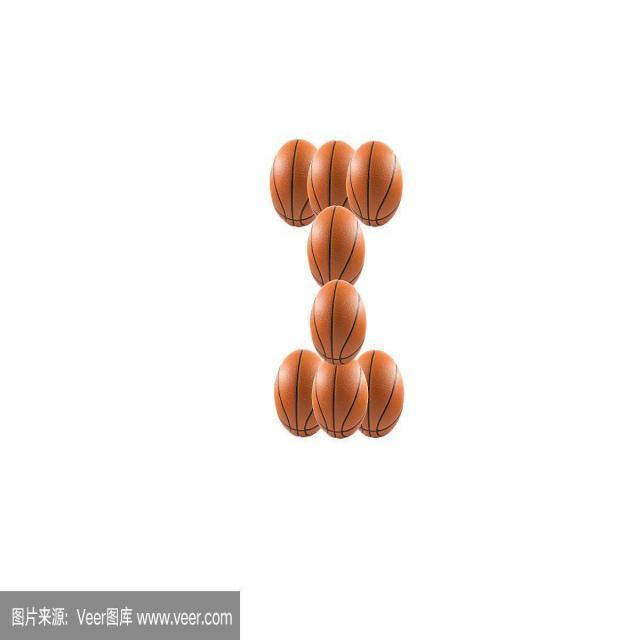rim: (302, 203, 366, 280), (346, 139, 400, 226), (313, 279, 367, 362), (358, 346, 404, 442), (312, 366, 370, 439), (270, 138, 316, 230), (274, 350, 320, 439), (308, 134, 356, 216)
